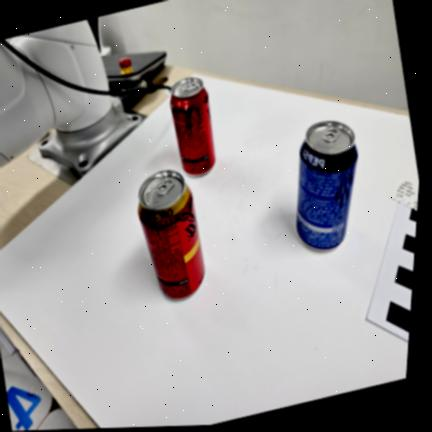can_coke_decaf: (137, 168, 205, 297)
can_coke_zero: (170, 78, 216, 176)
can_pepsi: (296, 122, 358, 249)
